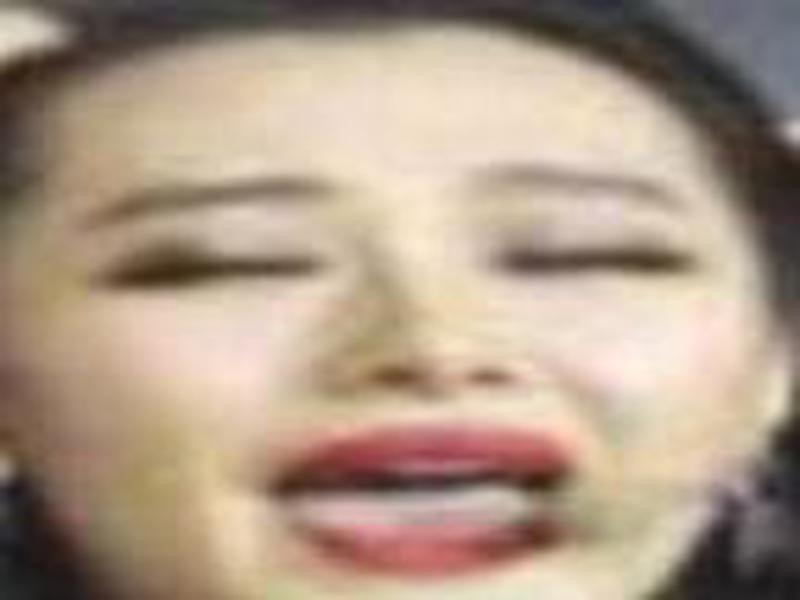without_mask: (2, 36, 778, 600)
